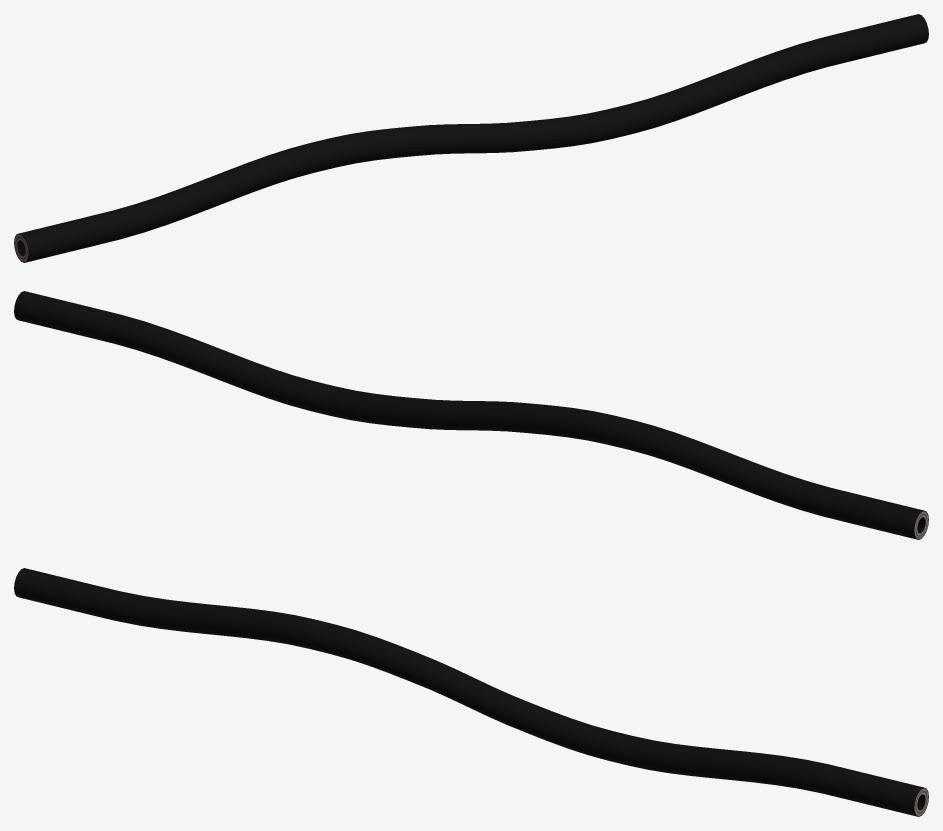
3 renders of one model, top to bottom at view 1: azimuth 30°, elevation 25°; view 2: azimuth 150°, elevation 25°; view 3: azimuth 330°, elevation 25°, orthographic.
Visible parts, largest first — view 1: SB_SS/PVC_Cut-04, SB_SS/PVC_Full-04; view 2: SB_SS/PVC_Cut-04, SB_SS/PVC_Full-04; view 3: SB_SS/PVC_Cut-04, SB_SS/PVC_Full-04.
Boxes of the visible parts, bbox=[...] form: SB_SS/PVC_Cut-04: bbox=[14, 14, 928, 262]; SB_SS/PVC_Full-04: bbox=[309, 109, 637, 167]; SB_SS/PVC_Cut-04: bbox=[14, 291, 928, 539]; SB_SS/PVC_Full-04: bbox=[304, 386, 631, 444]; SB_SS/PVC_Cut-04: bbox=[14, 568, 928, 816]; SB_SS/PVC_Full-04: bbox=[304, 619, 625, 764].
Bounding box in the file's own units: 0.3074 × 0.0216 × 0.00889.
Materials: 3 (3 with a texture image).
